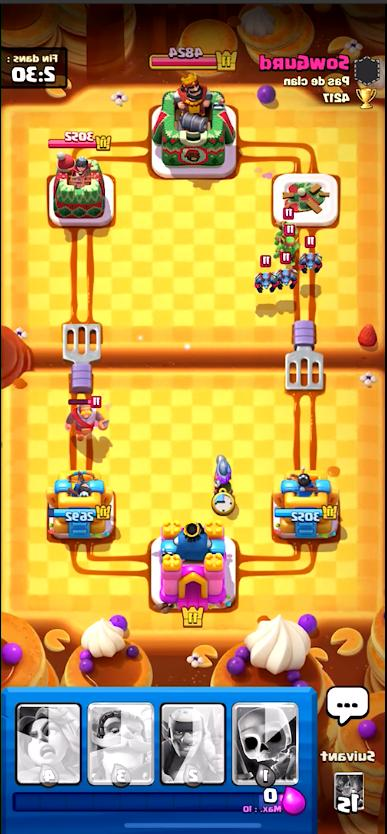chevalier: (64, 397, 104, 439)
gargouille: (300, 233, 323, 272), (256, 253, 278, 293), (276, 256, 297, 286)
gobelin_lances: (275, 208, 298, 240), (278, 229, 303, 256)
mousquetaire: (209, 456, 236, 493)
